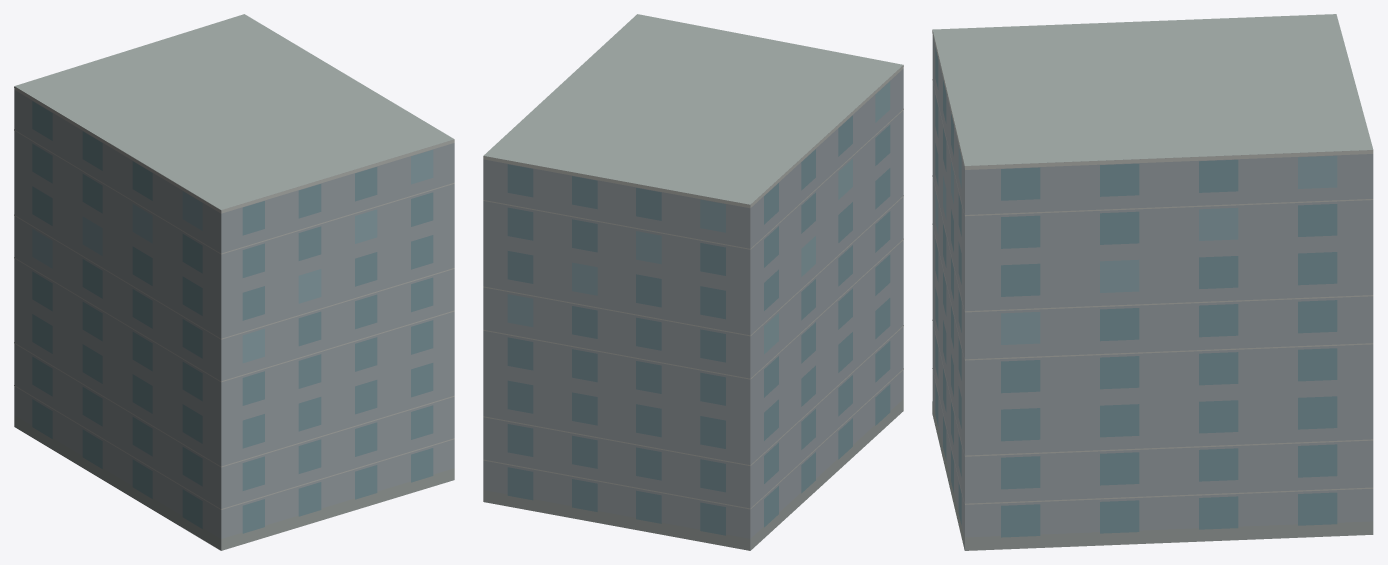
Rendered from survey-upis-32638273.glb.
3 renders of one model, left to right at view 1: azimuth 30°, elevation 25°; view 2: azimuth 150°, elevation 25°; view 3: azimuth 270°, elevation 25°, orthographic. The views are drawn at different scales.
Parts seen in each view (by area): view 1: survey-upis-32638273.tmp; view 2: survey-upis-32638273.tmp; view 3: survey-upis-32638273.tmp.
Boxes of the visible parts, left/top/right/bottom form: survey-upis-32638273.tmp: left=14, top=14, right=454, bottom=550; survey-upis-32638273.tmp: left=483, top=14, right=903, bottom=550; survey-upis-32638273.tmp: left=932, top=14, right=1373, bottom=550.
Size of the model in its own units: 19.94 by 23.5 by 24.43.
